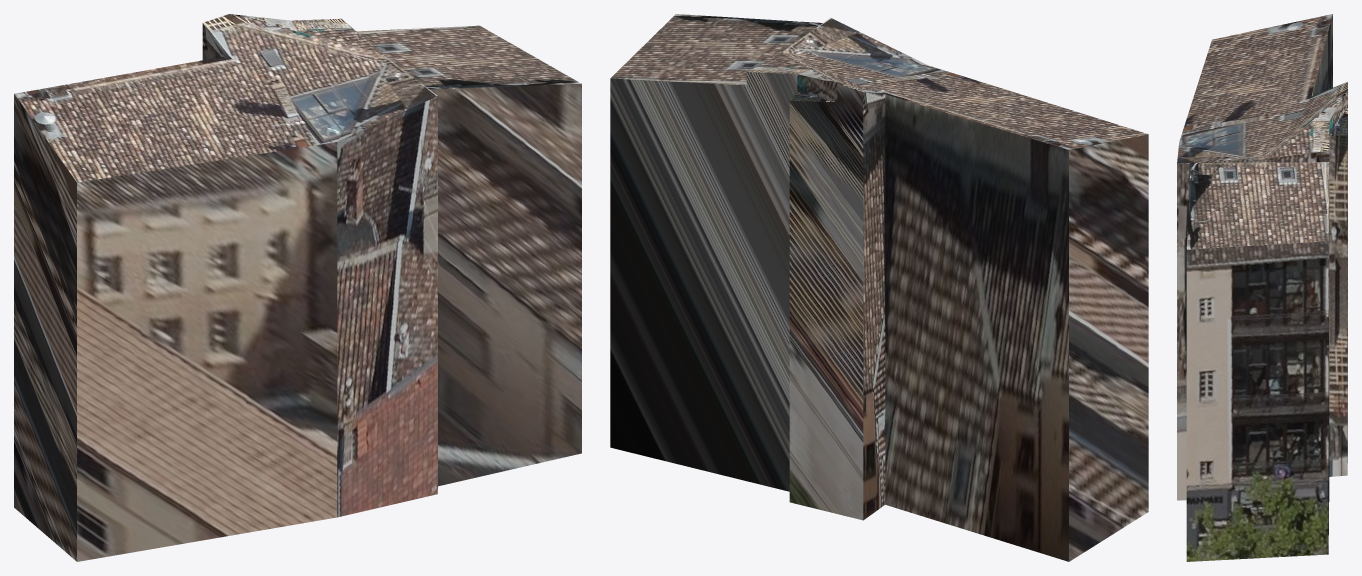
3 renders of one model, left to right at view 1: azimuth 30°, elevation 25°; view 2: azimuth 150°, elevation 25°; view 3: azimuth 270°, elevation 25°, orthographic. The views are drawn at different scales.
Visible parts, largest first — view 1: Z_UP; view 2: Z_UP; view 3: Z_UP.
Part boxes in pixels (x1,y1,x2,y2): Z_UP: [14, 14, 581, 561]; Z_UP: [610, 14, 1148, 561]; Z_UP: [1177, 14, 1347, 561].
Bounding box in the file's own units: 24.65 × 20.79 × 8.82.
2 materials, 1 textured.
